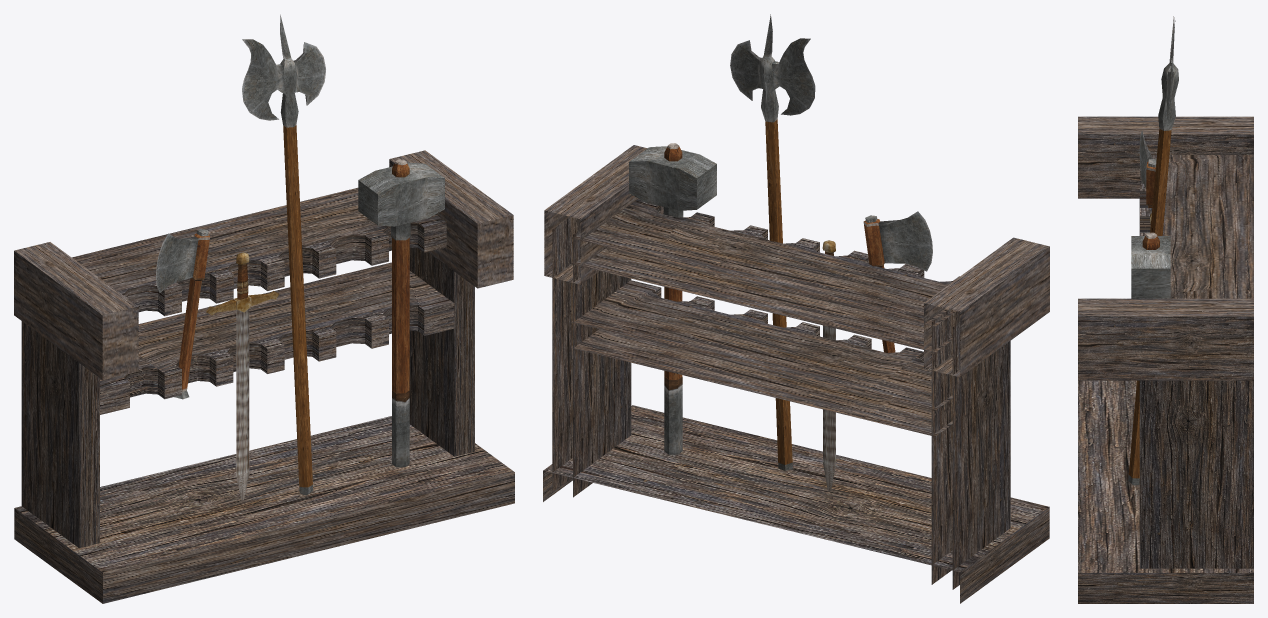
File: mm9_deco_weaponracknsusedg3.glb
The picture shows the model from 3 angles, left to right: view 1: azimuth 30°, elevation 25°; view 2: azimuth 150°, elevation 25°; view 3: azimuth 270°, elevation 25°; orthographic projection.
Visible parts, largest first — view 1: Weaponracknsusedg3; view 2: Weaponracknsusedg3; view 3: Weaponracknsusedg3.
Part boxes in pixels (bbox=[...]): Weaponracknsusedg3: bbox=[14, 14, 514, 603]; Weaponracknsusedg3: bbox=[543, 14, 1049, 603]; Weaponracknsusedg3: bbox=[1078, 16, 1253, 603].
Bounding box in the file's own units: 1.95 × 2.26 × 0.7263.
Materials: 2 (2 with a texture image).
